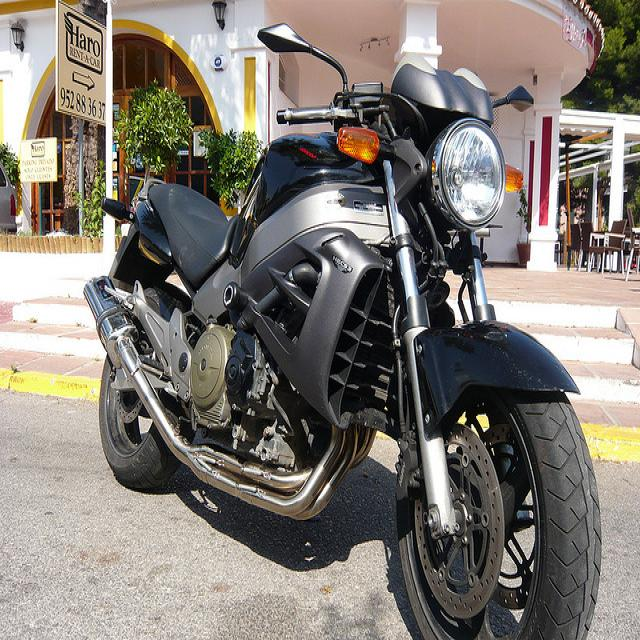motor: (83, 3, 602, 628)
